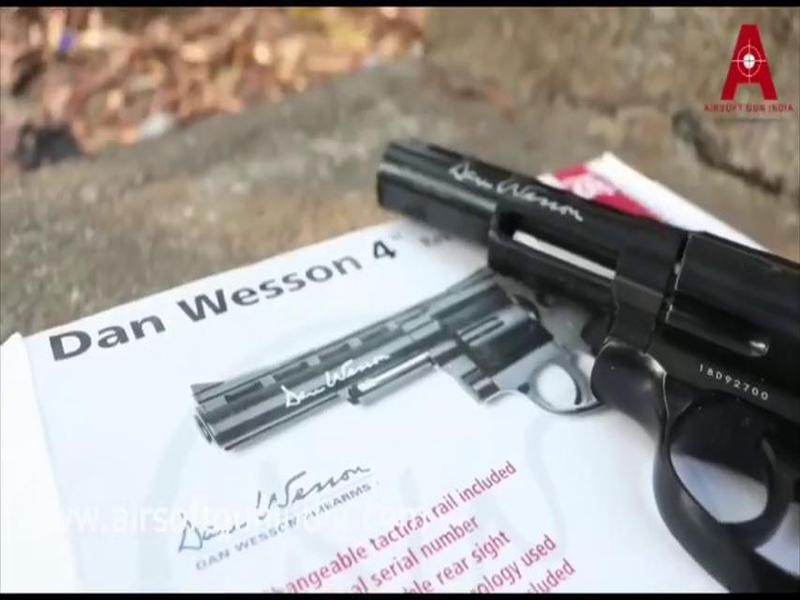Revolver: (352, 110, 799, 577)
